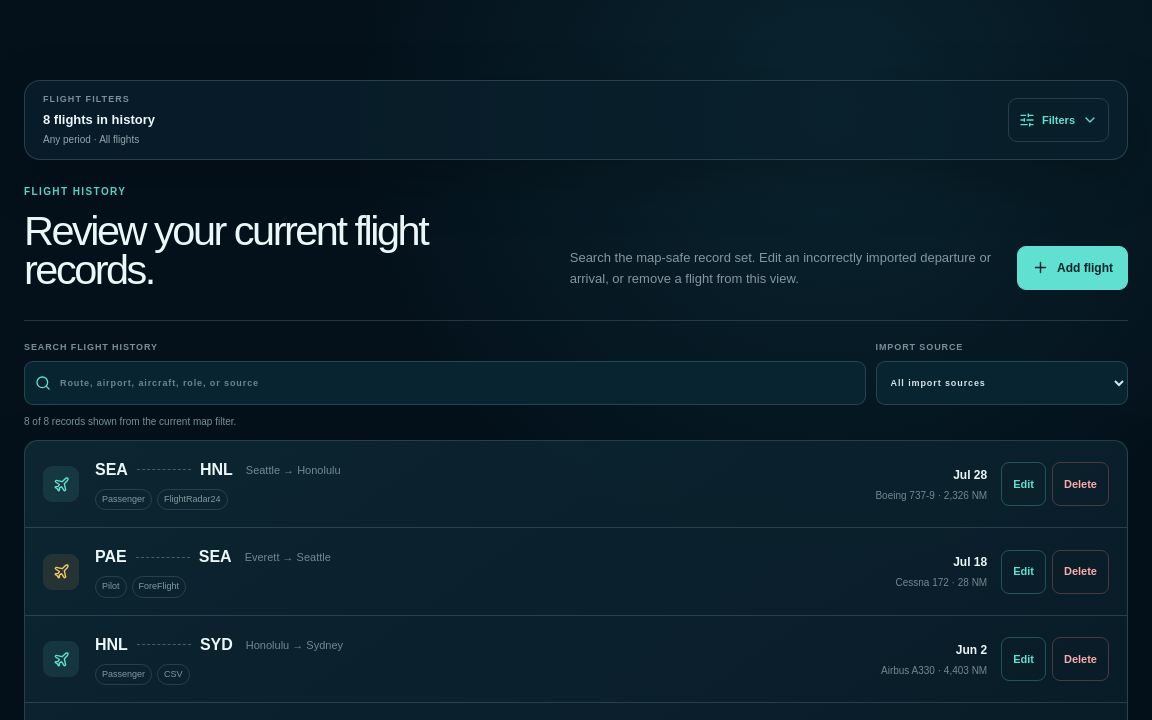
Test: route clients › opens the manual-log flow from Flights with explicit classification
Click the button "Add flight".
click(1072, 268)  # box [1017,246,1128,290]
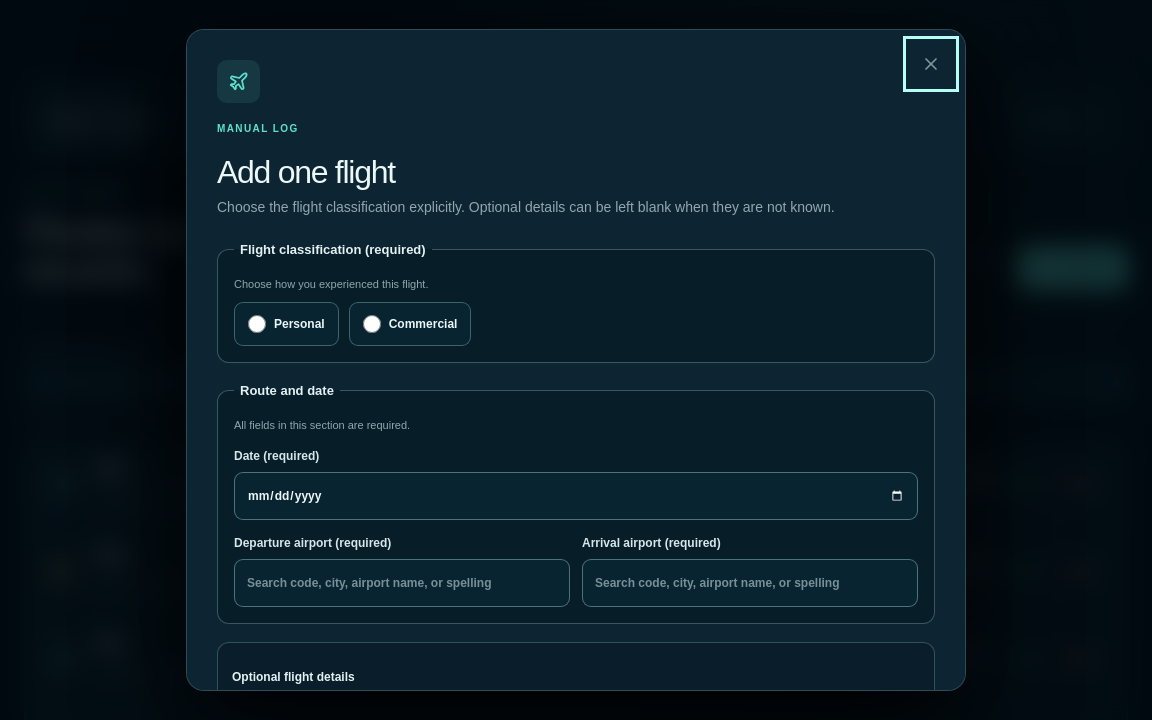
Now the dialog "Add one flight" is shown
Now the radio button labelled "Personal" is not checked, box [248,315,266,333]
Now the radio button labelled "Commercial" is not checked, box [363,315,381,333]
